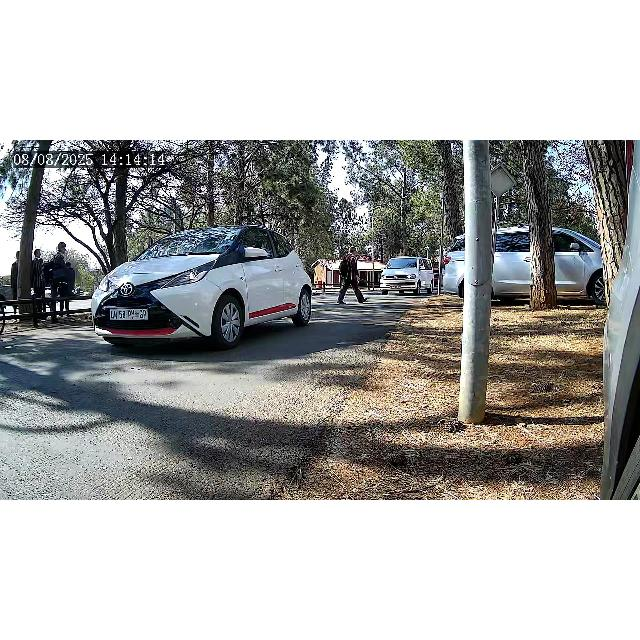car: (91, 224, 313, 350), (442, 225, 606, 307), (379, 256, 435, 296)
plate: (110, 308, 148, 320)
